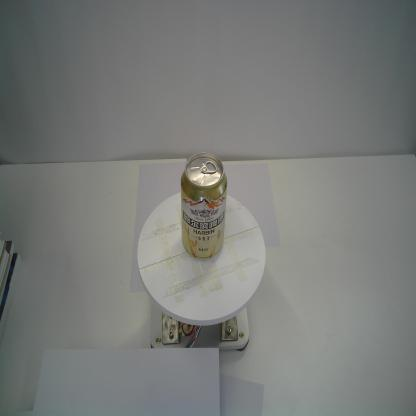Alcohol: (179, 149, 229, 261)
